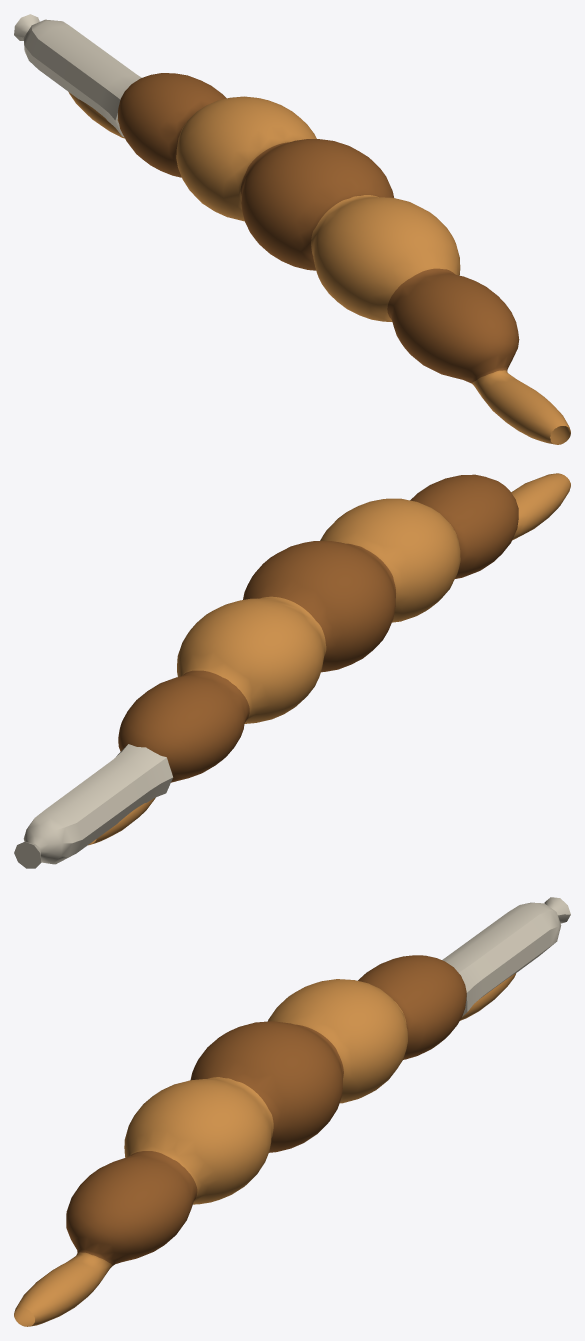
The model's file is w_bread@bread_croissant.glb.
The picture shows the model from 3 angles, top to bottom: view 1: azimuth 30°, elevation 25°; view 2: azimuth 150°, elevation 25°; view 3: azimuth 330°, elevation 25°; orthographic projection.
Visible parts, largest first — view 1: bread_wzB__crust2__p8f5a2a, bread_wzB__crust__pc78a45, sleeve_wzA__paper__pc9c1b0; view 2: bread_wzB__crust2__p8f5a2a, bread_wzB__crust__pc78a45, sleeve_wzA__paper__pc9c1b0; view 3: bread_wzB__crust2__p8f5a2a, bread_wzB__crust__pc78a45, sleeve_wzA__paper__pc9c1b0.
Part boxes in pixels (<box>): bread_wzB__crust2__p8f5a2a: <box>118,73,519,383</box>; bread_wzB__crust__pc78a45: <box>68,92,570,444</box>; sleeve_wzA__paper__pc9c1b0: <box>14,14,141,136</box>; bread_wzB__crust2__p8f5a2a: <box>118,474,518,782</box>; bread_wzB__crust__pc78a45: <box>88,473,570,845</box>; sleeve_wzA__paper__pc9c1b0: <box>14,744,173,868</box>; bread_wzB__crust2__p8f5a2a: <box>66,955,466,1265</box>; bread_wzB__crust__pc78a45: <box>14,973,516,1326</box>; sleeve_wzA__paper__pc9c1b0: <box>442,897,570,1016</box>.
Size of the model in its own units: 0.2533 by 0.2395 by 1.82.
